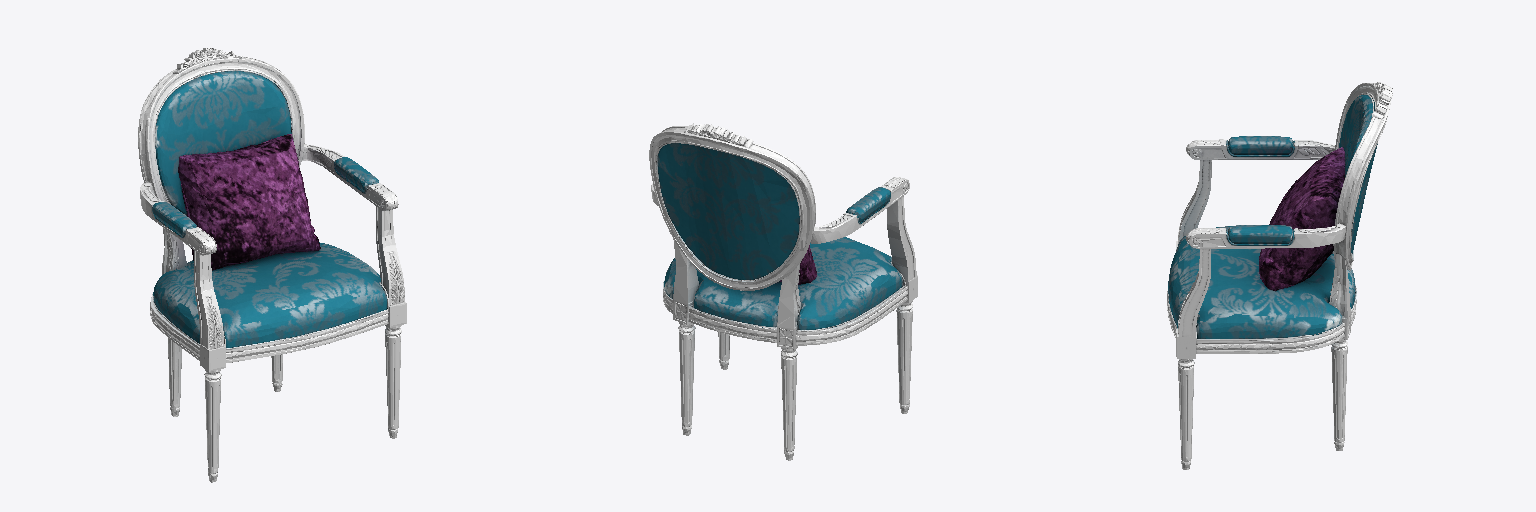
3 views of the same model, side by side, from view 1: azimuth 30°, elevation 25°; view 2: azimuth 150°, elevation 25°; view 3: azimuth 270°, elevation 25° (orthographic).
Visible parts, largest first — view 1: solid_002, solid_001, solid_003; view 2: solid_002, solid_001; view 3: solid_001, solid_002, solid_003.
Part boxes in pixels (x1,y1,x2,y2): solid_002: (152,71,387,347); solid_001: (138,48,406,482); solid_003: (178,134,320,270); solid_002: (658,143,902,329); solid_001: (649,123,917,460); solid_001: (1167,82,1392,469); solid_002: (1168,95,1377,338); solid_003: (1259,147,1344,290).
Size of the model in its own units: 0.6101 by 0.9922 by 0.6018.
Materials: 1 (1 with a texture image).